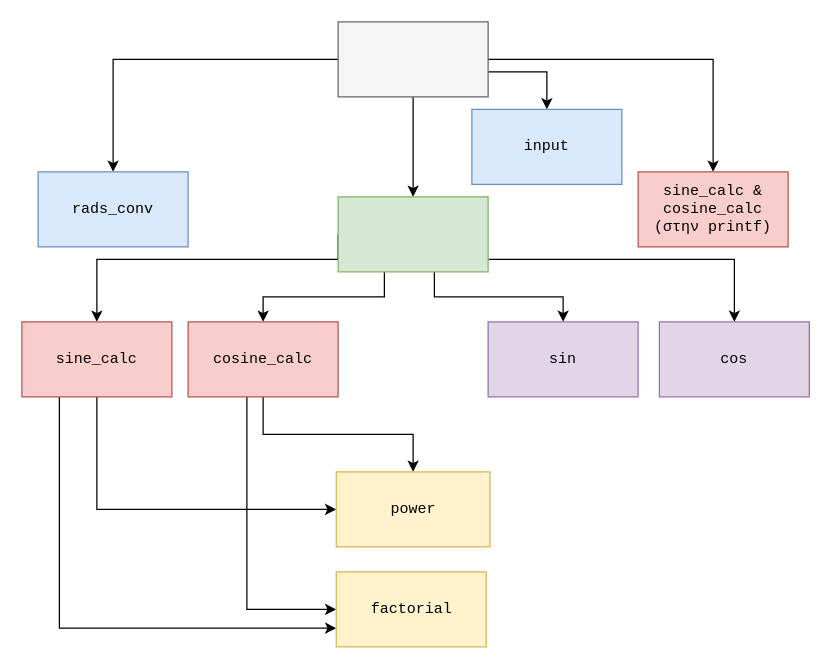
Image size: 831x669. Some labels were removed from this diagram. Here are the shapes that lost their labels. From the top down, the centre of each, then its label:
At point 412,59: "main".
At point 412,234: "compare".
